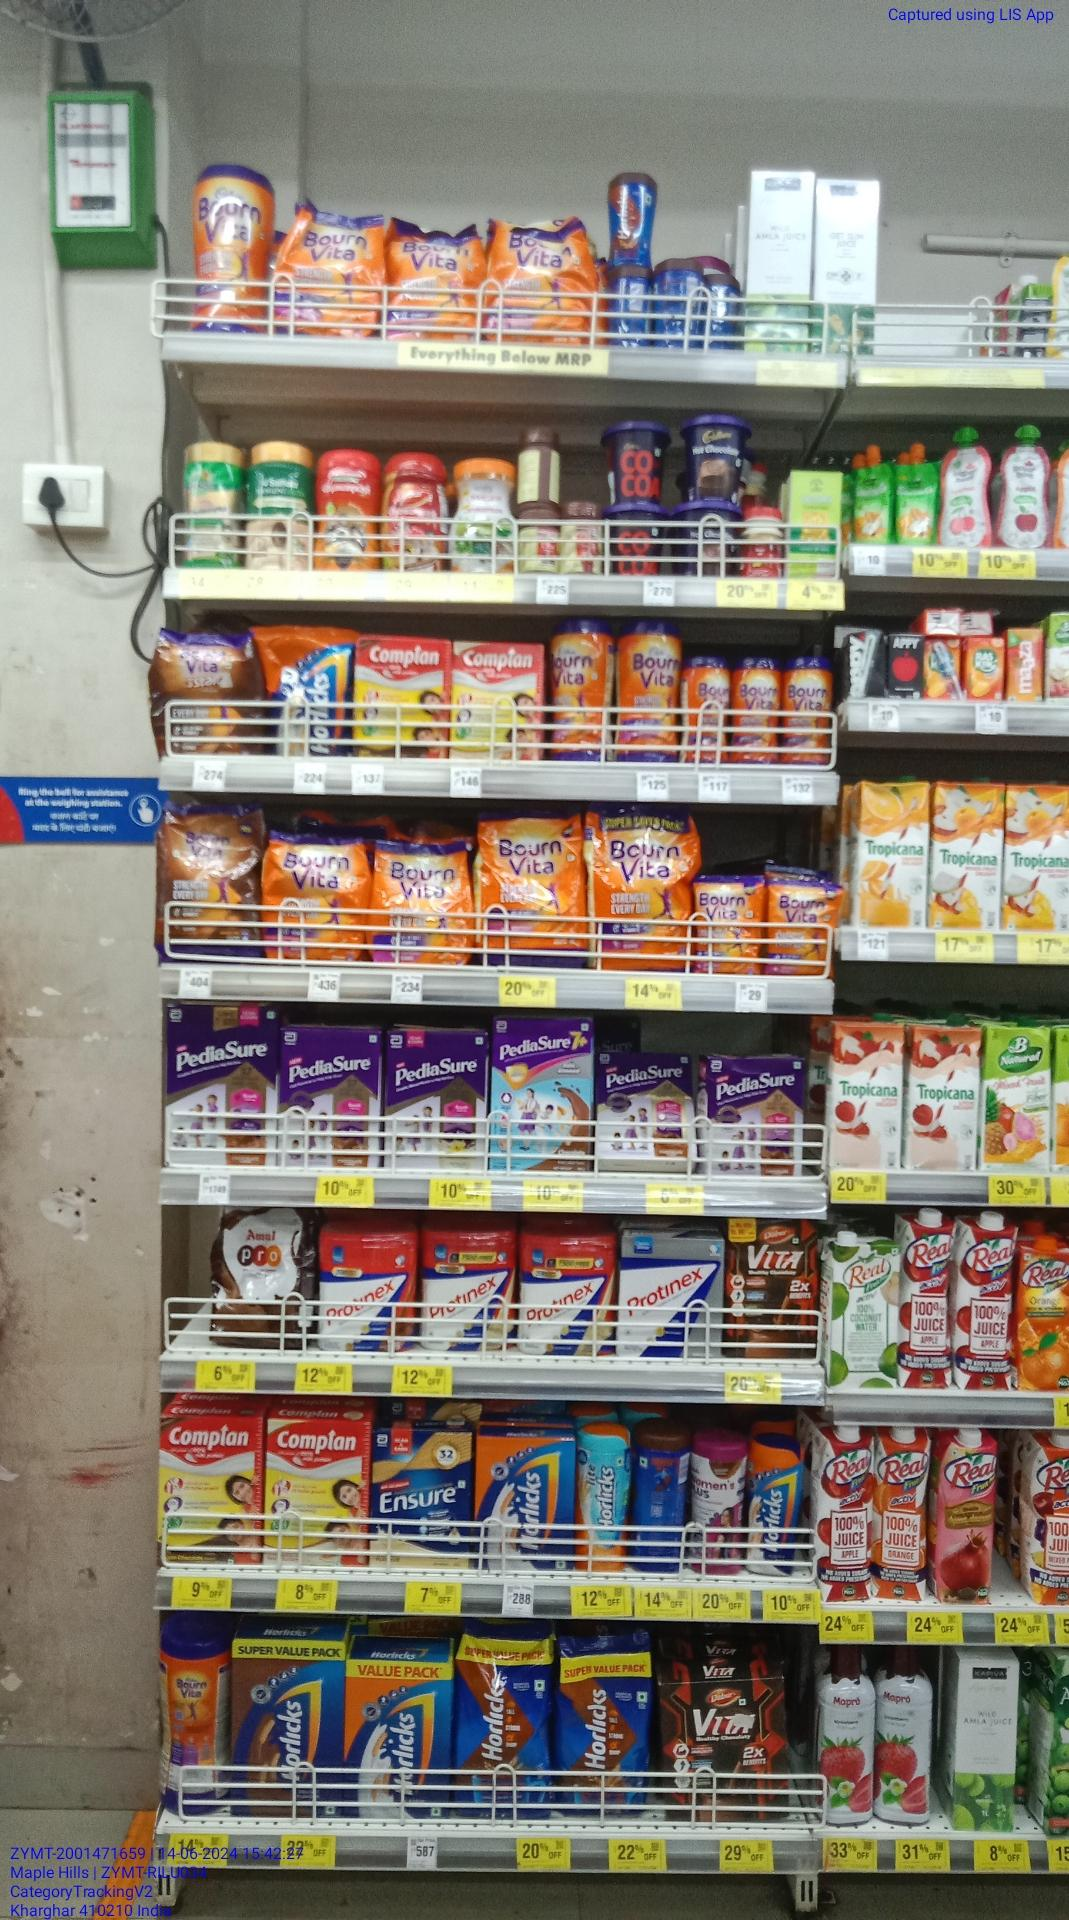BOURN_VITA_1_KG_JAR: (192, 159, 271, 332)
BOURN_VITA_1_KG_POUCH: (591, 808, 692, 967)
BOURN_VITA_200_G_JAR: (733, 653, 781, 763), (685, 654, 729, 766), (785, 657, 828, 765)
BOURN_VITA_500_G_JAR: (615, 622, 683, 763), (546, 619, 610, 763)
BOURN_VITA_500_G_POUCH: (279, 207, 384, 338), (487, 218, 591, 343), (265, 836, 367, 962), (373, 840, 467, 965), (391, 220, 481, 340)
BOURN_VITA_750_G_POUCH: (477, 812, 586, 967)
BOURN_VITA_75_G_POUCH: (768, 875, 836, 976), (695, 872, 761, 975)
BOURN_VITA_FIVE_STAR_MAGIC_500_G_POUCH: (154, 629, 250, 751)
BOURN_VITA_FIVE_STAR_MAGIC_750_G_POUCH: (159, 809, 261, 962)
COMPLAN_CHOCOLATE_200_GMS_PACK: (158, 1412, 265, 1565), (354, 636, 450, 758)
COMPLAN_CREAMY_CLASSIC_500_G_PACK: (265, 1416, 373, 1569), (453, 641, 544, 761)
HORLICKS_LITE_REGULAR_MALT_500_GM_JAR: (578, 1428, 632, 1571)
HORLICK_CHOCOLATE_500_G_PACK: (232, 1640, 341, 1819)
HORLICK_CLASSIC_MALT_500_G_JAR: (744, 1444, 800, 1583)
HORLICK_CLASSIC_MALT_500_G_PACK: (346, 1659, 454, 1823), (474, 1433, 575, 1569)
PEDIASURE_CHOCOLATE_500_G_PACK: (169, 1001, 271, 1169), (279, 1021, 383, 1169), (707, 1054, 807, 1180), (598, 1050, 698, 1174)
PEDIASURE_VANILLA_500_G_PACK: (386, 1025, 487, 1171)
PROTINEX_CHOCOLATE_400_G_JAR: (316, 1233, 419, 1349)
